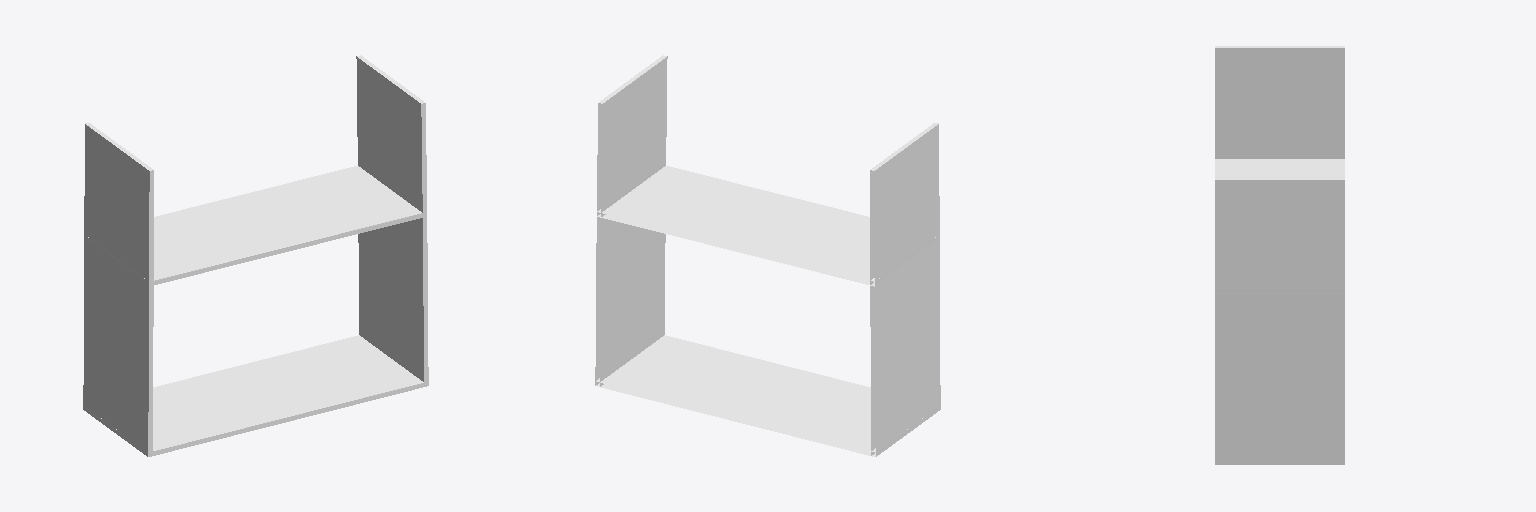
The model's file is wall_4.obj.
3 views of the same model, side by side, from view 1: azimuth 30°, elevation 25°; view 2: azimuth 150°, elevation 25°; view 3: azimuth 270°, elevation 25° (orthographic).
Visible parts, largest first — view 1: walls; view 2: walls; view 3: walls.
Part boxes in pixels (x1,y1,x2,y2): walls: (83, 55, 428, 456); walls: (595, 55, 940, 456); walls: (1215, 46, 1344, 464).
Size of the model in its own units: 6.24 by 6.1 by 2.5.